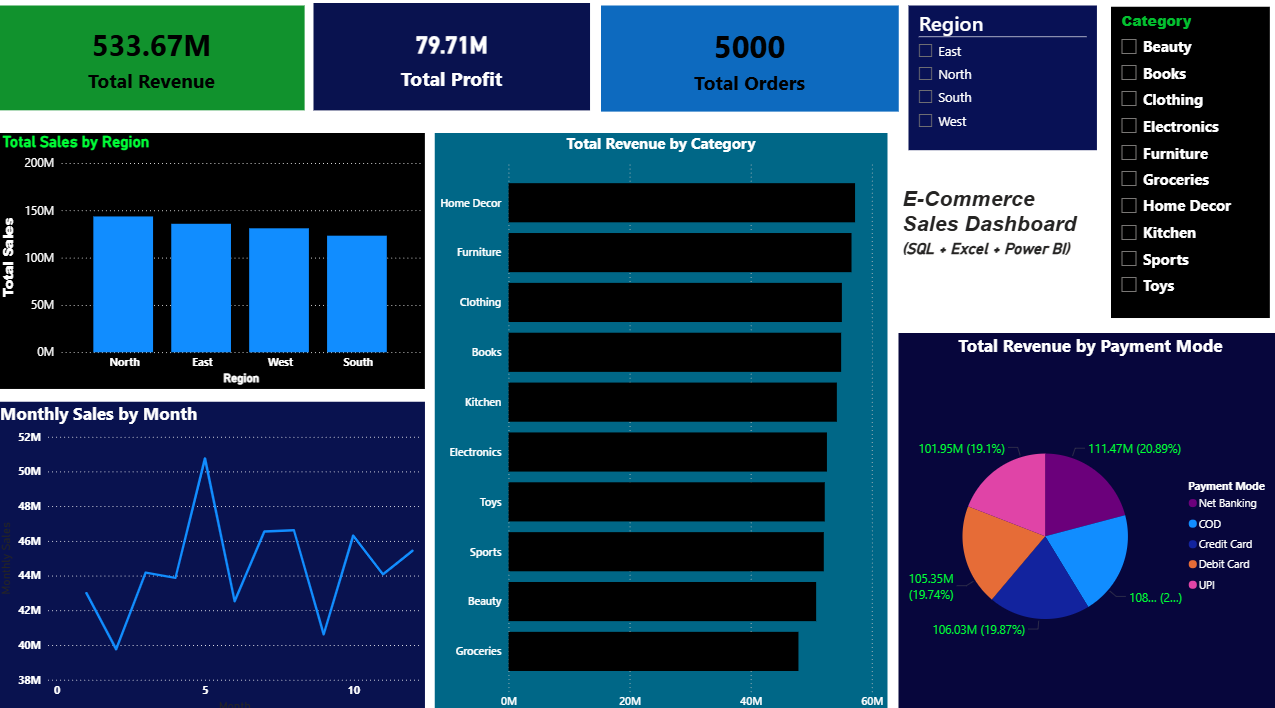

Layout of this report page (visuals, bound fields, positions):
{"tool":"powerbi","page":{"name":"Page 1","canvas":[1600,900],"ordinal":0},"visuals":[{"type":"card","fields":{"Values":["Sum(KPI.total_revenue)"]},"box":[3.1,15.5,381,130.6],"z":0},{"type":"card","fields":{"Values":["Sum(KPI.total_profit)"]},"box":[395,12.4,343.6,133.7],"z":1000},{"type":"card","fields":{"Values":["Sum(KPI.total_orders)"]},"box":[752.6,15.5,370.1,132.2],"z":2000},{"type":"clusteredColumnChart","fields":{"Category":["Regional Analysis.Region"],"Y":["Sum(Regional Analysis.total_sales)"]},"box":[3.1,174.2,530.2,318.8],"z":3000},{"type":"lineChart","fields":{"Y":["Sum(Monthly_Trend.monthly_sales)"],"Category":["Monthly_Trend.month"]},"box":[0,508.5,533.3,391.8],"z":4000},{"type":"clusteredBarChart","title":"Total Revenue by Category","fields":{"Category":["Category_Analysis.Category"],"Y":["Sum(Category_Analysis.revenue)"]},"box":[545.8,174.2,562.9,726.2],"z":5000},{"type":"pieChart","title":"Total Revenue by Payment Mode","fields":{"Category":["Payment_Mode_Analysis.payment_mode"],"Y":["Sum(Payment_Mode_Analysis.revenue)"]},"box":[1122.7,422.9,477.4,477.4],"z":6000},{"type":"slicer","fields":{"Values":["Category_Analysis.Category"]},"box":[1387,17.1,197.5,387.2],"z":7000},{"type":"slicer","fields":{"Values":["Regional Analysis.Region"]},"box":[1135.1,15.5,234.8,180.4],"z":8000},{"type":"textbox","box":[1122.7,236.4,247.2,144.6],"z":8001}]}

Visuals, with their boxes in screenshot pixels (x1, y1, x2, y2), scaled from the page's 1600x900 canvas onto the 1275x708 screenshot:
card - Sum(KPI.total_revenue): (2,12,306,115)
card - Sum(KPI.total_profit): (315,10,589,115)
card - Sum(KPI.total_orders): (600,12,895,116)
clusteredColumnChart - Regional Analysis.Region x Sum(Regional Analysis.total_sales): (2,137,425,388)
lineChart - Sum(Monthly_Trend.monthly_sales) x Monthly_Trend.month: (0,400,425,707)
"Total Revenue by Category" clusteredBarChart: (435,137,883,707)
"Total Revenue by Payment Mode" pieChart: (895,333,1274,707)
slicer - Category_Analysis.Category: (1105,13,1263,318)
slicer - Regional Analysis.Region: (905,12,1092,154)
textbox: (895,186,1092,300)
